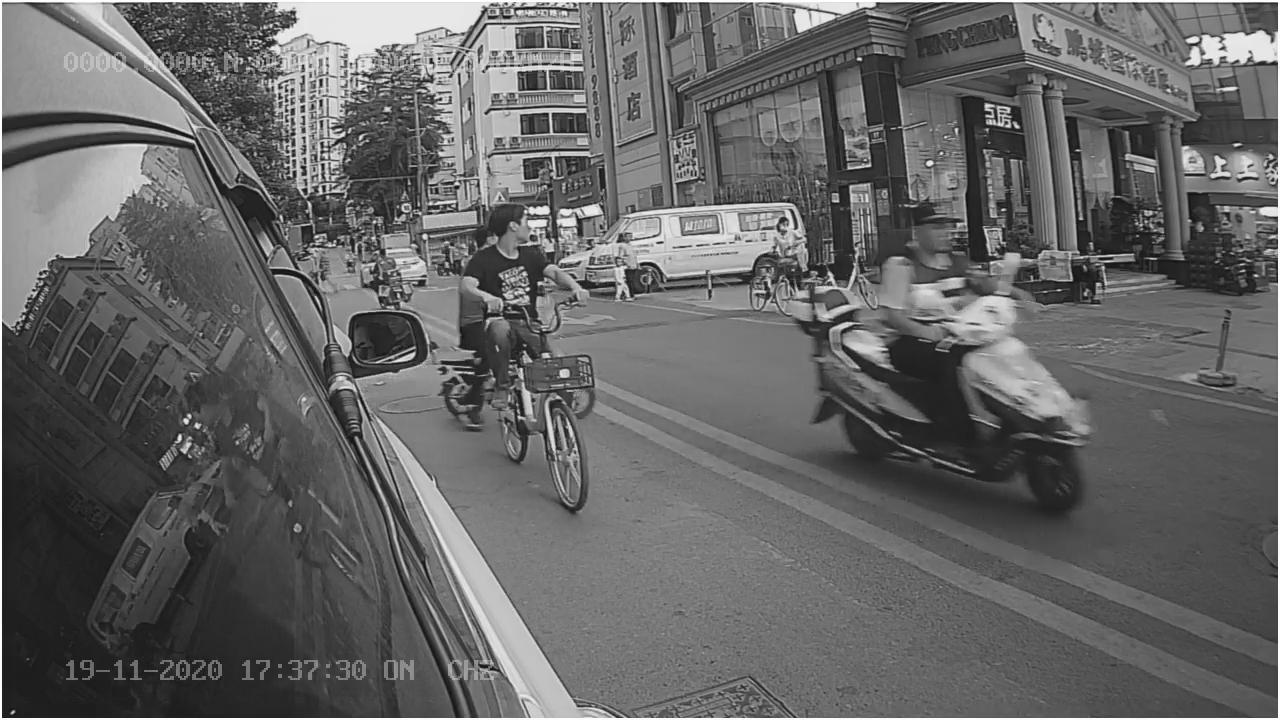person: (466, 207, 566, 305)
